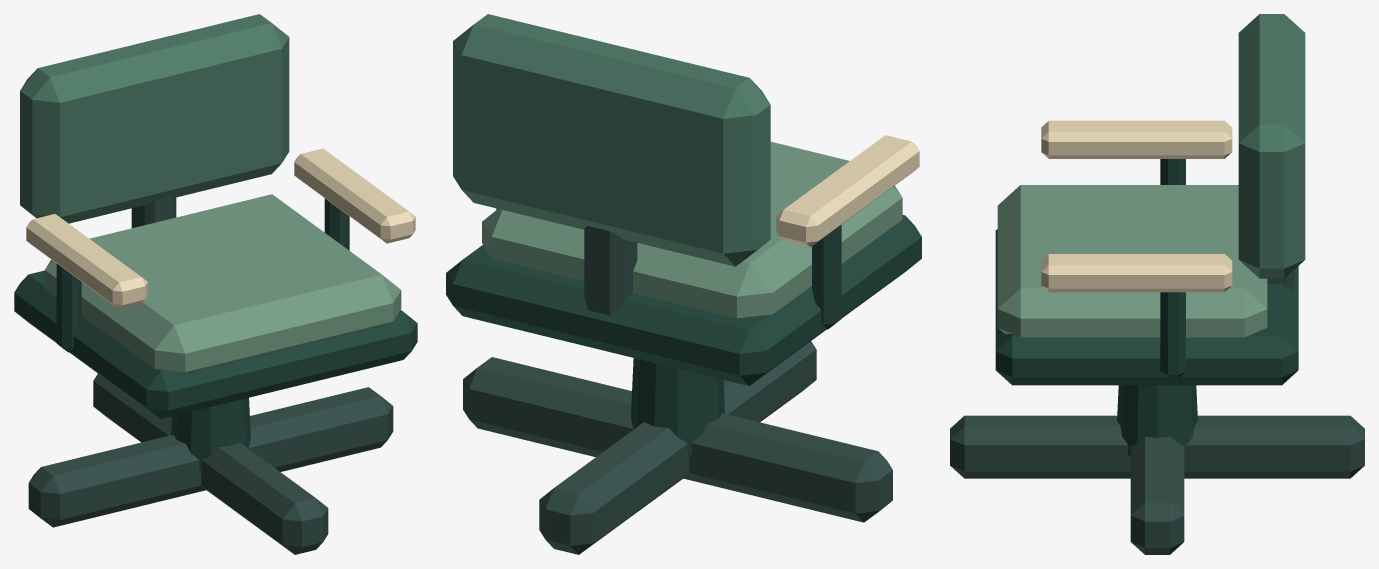
Rendered from chair.glb.
3 views of the same model, side by side, from view 1: azimuth 30°, elevation 25°; view 2: azimuth 150°, elevation 25°; view 3: azimuth 270°, elevation 25° (orthographic). The views are drawn at different scales.
Parts seen in each view (by area): view 1: green_Asset_chair, sage_Asset_chair, outline_Asset_chair, deep_Asset_chair, cream_Asset_chair; view 2: green_Asset_chair, outline_Asset_chair, deep_Asset_chair, sage_Asset_chair, cream_Asset_chair; view 3: sage_Asset_chair, outline_Asset_chair, deep_Asset_chair, green_Asset_chair, cream_Asset_chair.
Part boxes in pixels (<box>): green_Asset_chair: <box>20,14,289,223</box>; sage_Asset_chair: <box>44,194,401,375</box>; outline_Asset_chair: <box>28,195,393,554</box>; deep_Asset_chair: <box>14,198,417,469</box>; cream_Asset_chair: <box>26,148,415,308</box>; green_Asset_chair: <box>453,14,770,266</box>; outline_Asset_chair: <box>463,226,892,554</box>; deep_Asset_chair: <box>446,208,921,454</box>; sage_Asset_chair: <box>482,141,902,318</box>; cream_Asset_chair: <box>776,135,919,247</box>; sage_Asset_chair: <box>997,185,1267,337</box>; outline_Asset_chair: <box>950,270,1364,554</box>; deep_Asset_chair: <box>995,159,1298,455</box>; green_Asset_chair: <box>1238,14,1305,278</box>; cream_Asset_chair: <box>1041,120,1232,292</box>.
Size of the model in its own units: 1 by 1.08 by 1.
